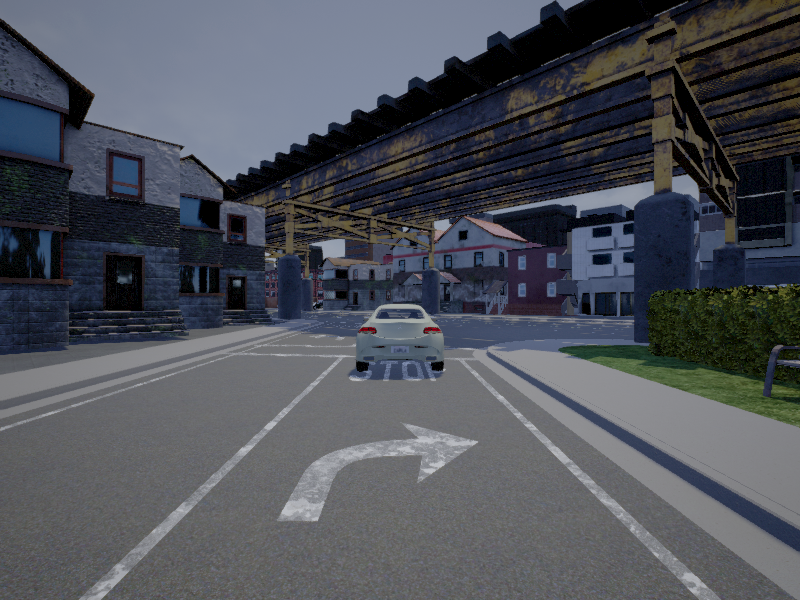Benign: (358, 304, 448, 372)
